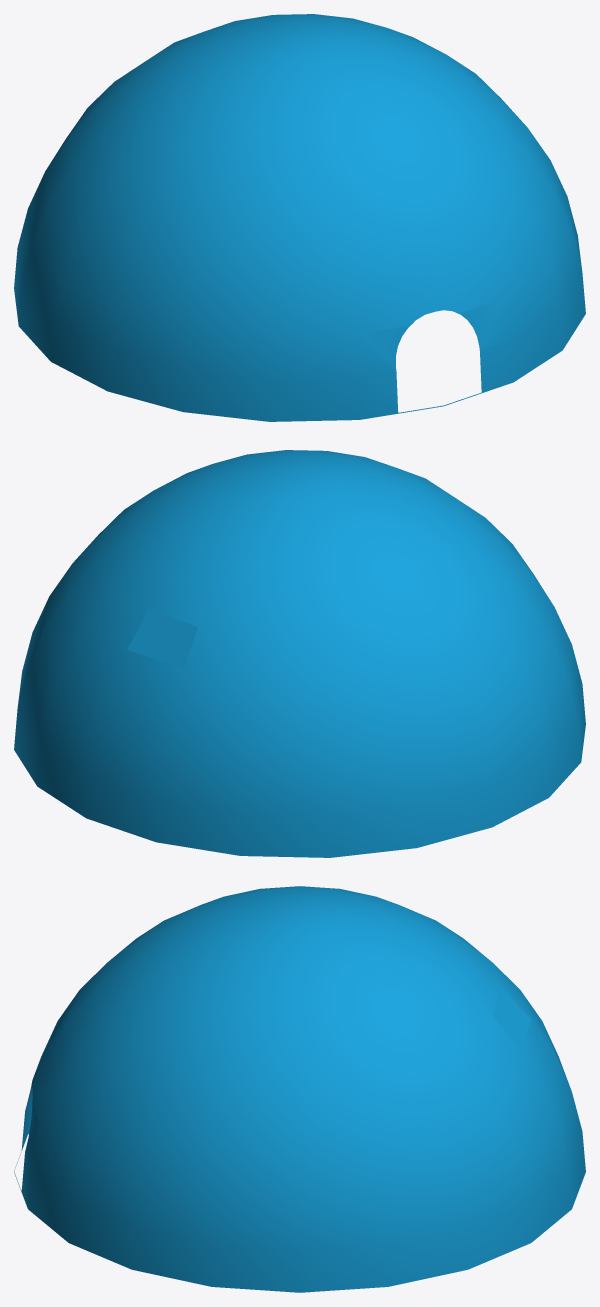
The model's file is Fachada.obj.
3 renders of one model, top to bottom at view 1: azimuth 30°, elevation 25°; view 2: azimuth 150°, elevation 25°; view 3: azimuth 270°, elevation 25°, orthographic.
Visible parts, largest first — view 1: polySurface2 Fachada:polySurface2; view 2: polySurface2 Fachada:polySurface2; view 3: polySurface2 Fachada:polySurface2.
Part boxes in pixels (<box>): polySurface2 Fachada:polySurface2: <box>14,14,585,421</box>; polySurface2 Fachada:polySurface2: <box>14,450,585,857</box>; polySurface2 Fachada:polySurface2: <box>14,886,585,1292</box>.
Bounding box in the file's own units: 6.61 × 3.3 × 6.61.
1 material, 1 textured.
